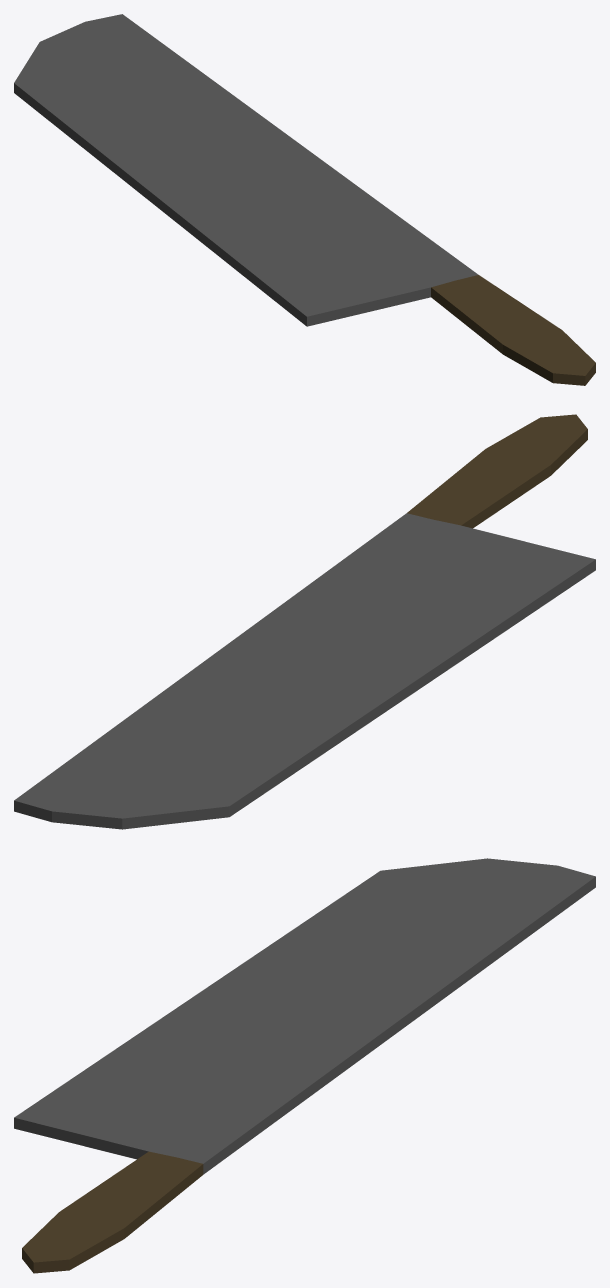
Rendered from Knife.fbx.
3 views of the same model, one above another, from view 1: azimuth 30°, elevation 25°; view 2: azimuth 150°, elevation 25°; view 3: azimuth 330°, elevation 25° (orthographic). The views are drawn at different scales.
Parts seen in each view (by area): view 1: Knife, KnifeHandle; view 2: Knife, KnifeHandle; view 3: Knife, KnifeHandle.
Boxes of the visible parts, x1,y1,x2,y2 form: Knife: (14,14,478,326); KnifeHandle: (431,275,595,385); Knife: (14,513,595,829); KnifeHandle: (407,414,587,528); Knife: (14,858,595,1174); KnifeHandle: (22,1151,203,1273).
Size of the model in its own units: 4.42 by 0.2359 by 21.
